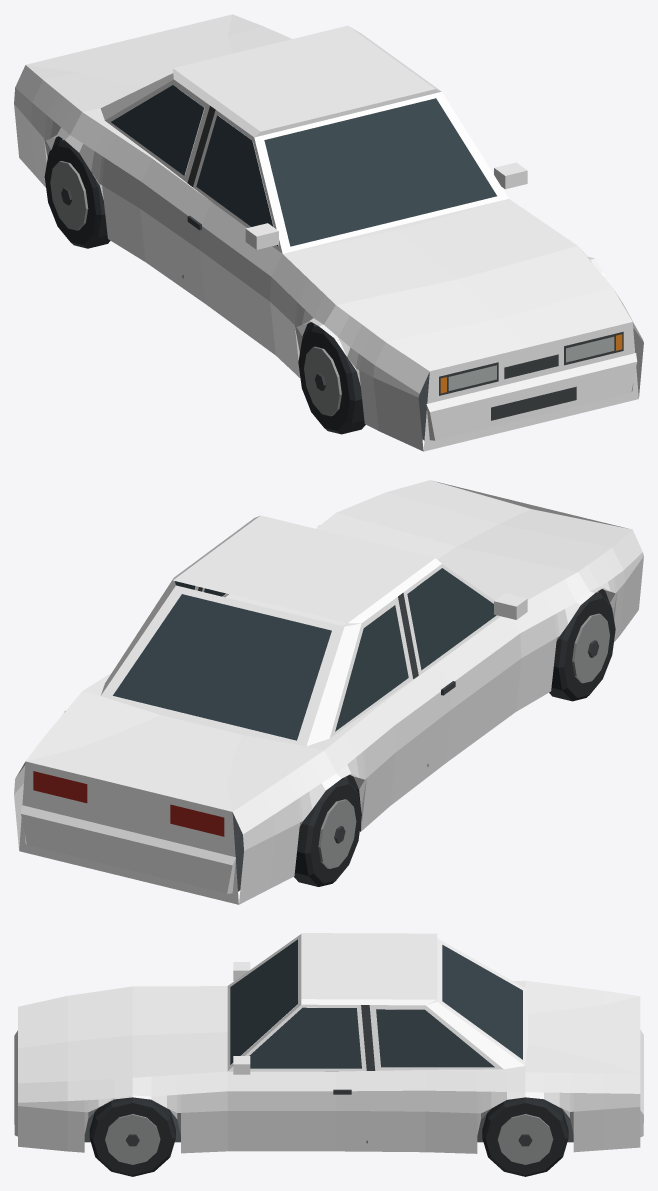
The model's file is kanaya_kirameki.glb.
3 renders of one model, top to bottom at view 1: azimuth 30°, elevation 25°; view 2: azimuth 150°, elevation 25°; view 3: azimuth 270°, elevation 25°, orthographic. The views are drawn at different scales.
Visible parts, largest first — view 1: kanaya_kirameki; view 2: kanaya_kirameki; view 3: kanaya_kirameki.
Part boxes in pixels (left/top/right/bottom): kanaya_kirameki: left=14, top=14, right=643, bottom=451; kanaya_kirameki: left=14, top=480, right=643, bottom=904; kanaya_kirameki: left=14, top=933, right=643, bottom=1176.
Bounding box in the file's own units: 1.73 × 1.25 × 4.41.
8 materials, 1 textured.
